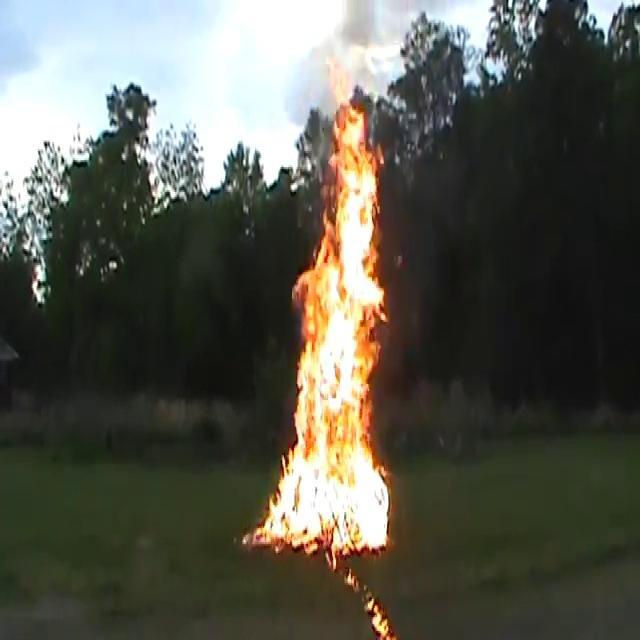Fire: (262, 62, 400, 569)
